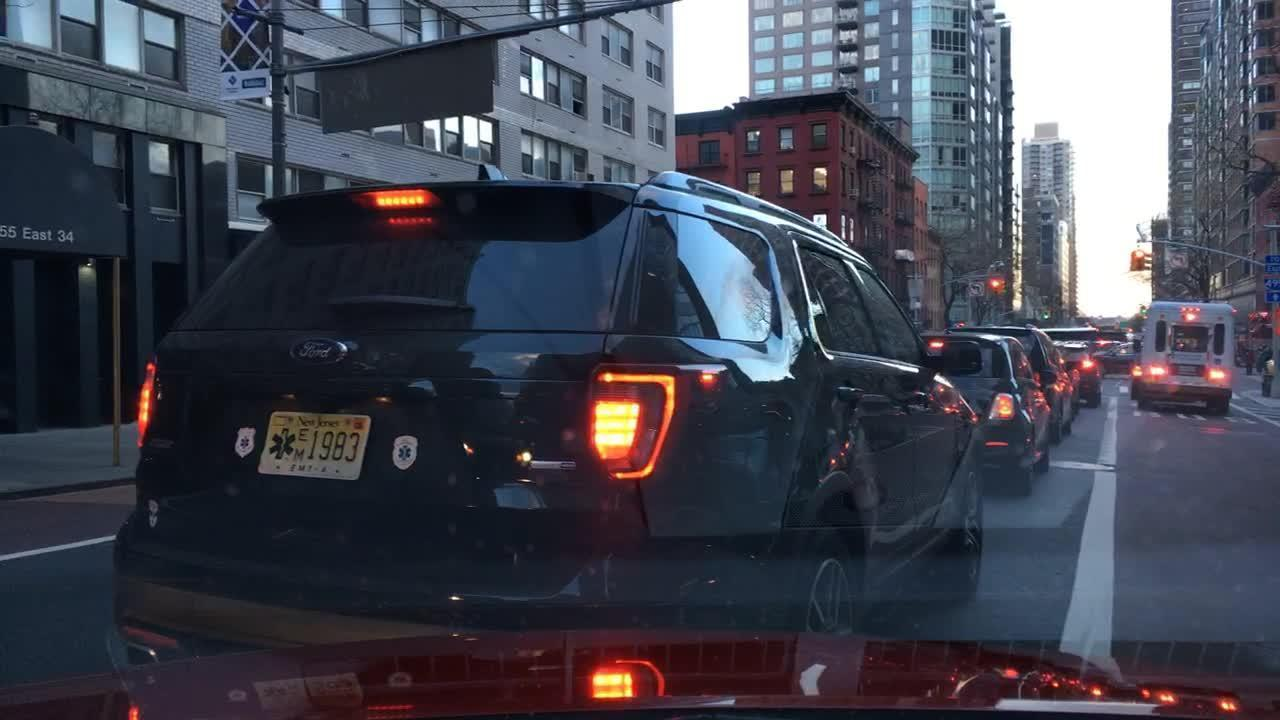ford: (280, 329, 360, 374)
